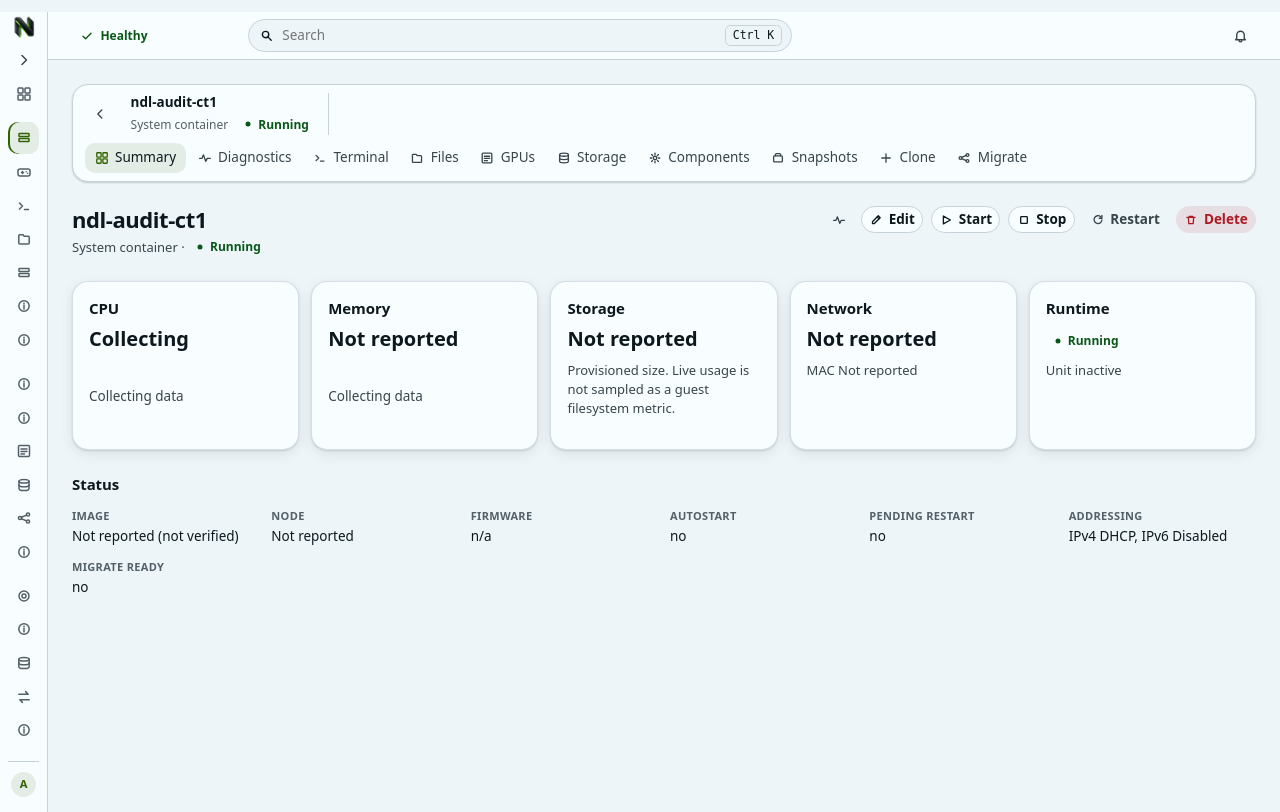
Test: App › enables Start after Stop even if Docker inventory is still loading
The image size is (1280, 812).
Check: the heading "ndl-audit-ct1" is shown, box [72,204,207,234]
Click the button "Stop" at {"x": 1042, "y": 220}, box [1008,206,1075,233]
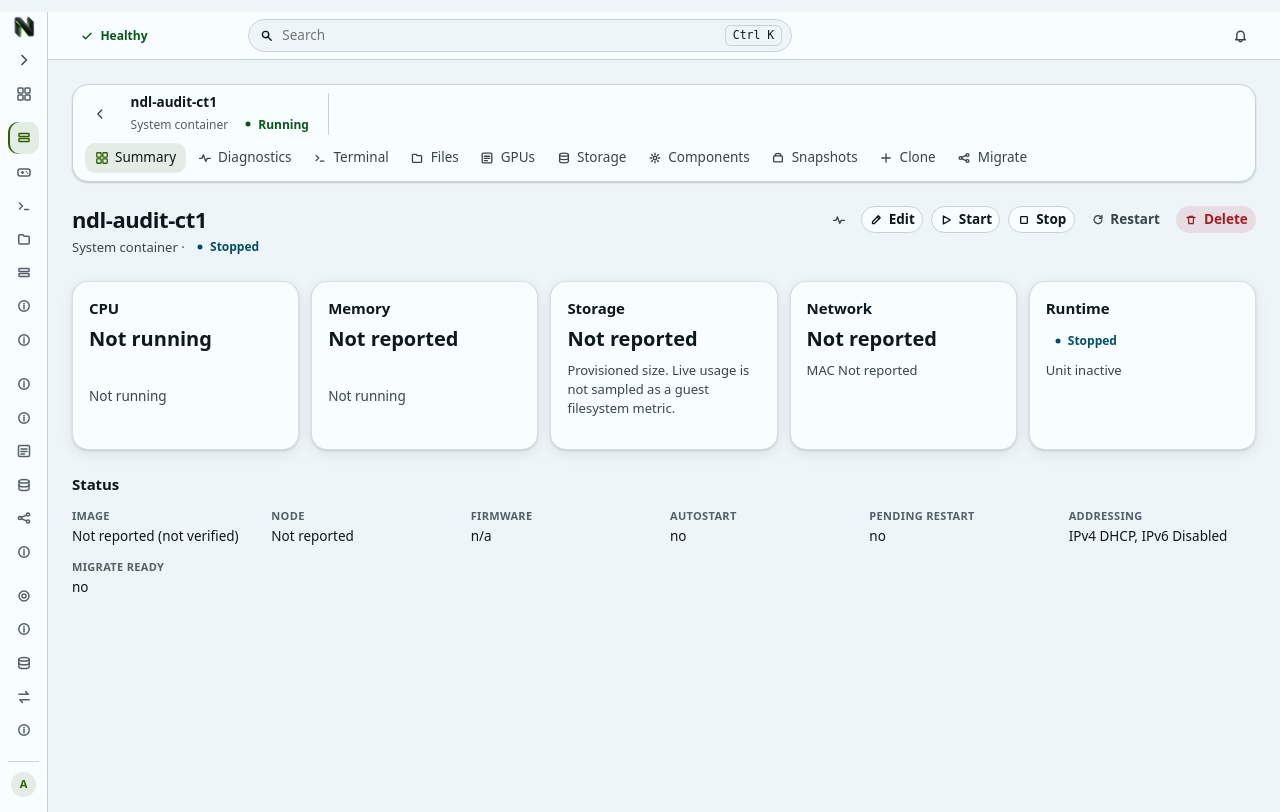
Check: the button "Start" is enabled, box [931,206,1000,233]
Check: the 1st text "Stopped" is shown, box [195,238,259,255]
Check: the text "Collecting" is gone
